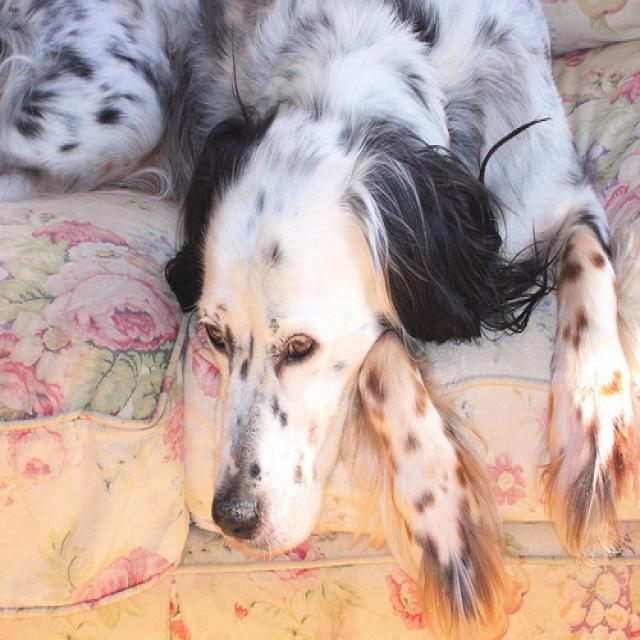dog-english_setter: (1, 2, 637, 637)
